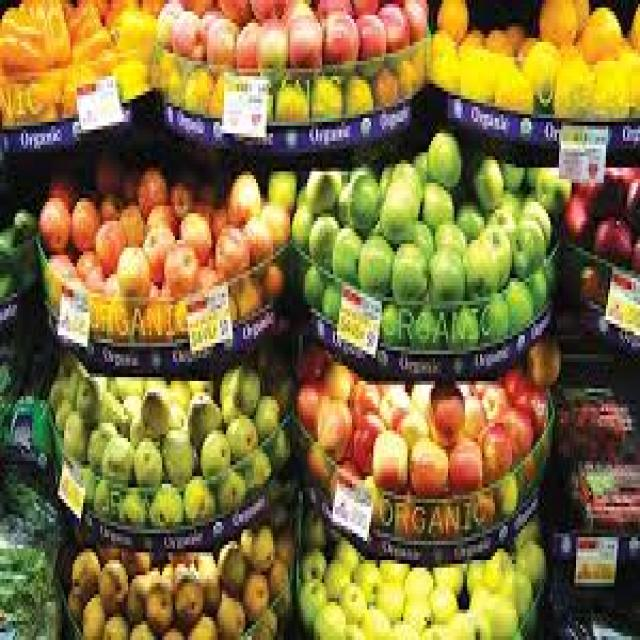organic waste: (0, 0, 66, 72), (557, 388, 627, 454), (0, 545, 58, 621), (576, 0, 619, 65), (582, 480, 638, 526), (424, 377, 461, 446), (107, 0, 158, 50), (424, 244, 463, 308), (286, 4, 320, 76), (320, 8, 358, 72), (390, 240, 427, 305), (377, 175, 414, 240), (313, 396, 350, 461), (211, 221, 250, 282), (407, 434, 448, 492), (113, 244, 149, 308), (61, 0, 104, 53), (426, 122, 461, 187), (202, 8, 235, 76), (372, 422, 406, 488), (538, 0, 584, 46), (465, 148, 501, 206), (186, 388, 220, 449), (224, 168, 260, 225), (254, 12, 286, 76), (348, 412, 382, 472), (0, 224, 32, 286), (520, 34, 554, 92), (463, 236, 497, 294), (170, 0, 202, 61), (196, 423, 228, 484), (525, 320, 557, 381), (499, 404, 531, 465), (448, 431, 480, 492), (158, 423, 192, 480), (354, 8, 384, 72), (493, 53, 531, 103), (591, 213, 629, 263), (143, 224, 173, 286), (380, 152, 420, 198), (428, 27, 458, 88), (70, 541, 100, 602), (94, 217, 126, 274), (162, 240, 196, 293), (478, 591, 518, 636), (346, 172, 378, 228), (141, 576, 173, 632), (512, 530, 544, 586), (502, 572, 534, 628), (303, 164, 339, 213), (350, 556, 392, 598), (552, 50, 591, 95), (134, 164, 167, 217), (563, 186, 591, 248), (36, 194, 68, 248), (510, 213, 542, 267), (356, 232, 388, 286), (147, 476, 184, 522), (81, 419, 115, 469), (177, 206, 209, 259), (458, 42, 492, 91), (68, 190, 98, 244), (173, 568, 200, 628), (376, 0, 408, 50), (518, 198, 550, 248), (243, 213, 271, 270), (484, 217, 510, 278), (136, 389, 168, 438), (444, 297, 478, 343), (420, 179, 454, 225), (376, 381, 410, 427), (222, 412, 256, 457), (478, 545, 512, 590), (591, 57, 627, 99), (307, 209, 335, 263), (297, 576, 324, 632), (130, 434, 160, 484), (102, 266, 126, 328), (111, 373, 166, 400), (480, 419, 508, 472), (307, 72, 339, 118), (134, 282, 164, 331), (214, 587, 244, 636), (403, 564, 433, 613), (233, 15, 260, 69), (216, 537, 243, 591), (239, 526, 273, 568), (521, 381, 546, 438), (309, 598, 346, 636), (98, 556, 124, 610), (260, 198, 288, 248), (467, 480, 495, 530), (303, 434, 333, 480), (431, 214, 467, 252), (73, 373, 100, 423), (102, 431, 132, 476), (320, 358, 352, 400), (616, 42, 638, 103), (267, 556, 290, 614), (409, 301, 444, 339), (231, 362, 258, 411), (393, 484, 420, 533), (273, 80, 307, 118), (534, 172, 568, 210), (117, 198, 145, 244), (181, 472, 209, 518), (117, 480, 145, 526), (612, 164, 636, 217), (241, 568, 265, 621), (369, 61, 399, 103), (478, 294, 508, 336), (266, 168, 296, 210), (239, 446, 269, 488), (337, 575, 367, 617), (504, 274, 529, 324), (297, 377, 322, 427), (169, 377, 209, 408), (252, 389, 277, 438), (356, 598, 388, 636), (371, 594, 403, 632), (231, 271, 258, 316), (62, 408, 89, 453), (196, 560, 220, 610), (256, 252, 284, 294), (301, 255, 326, 301), (488, 190, 518, 228), (9, 202, 36, 244), (476, 377, 503, 419), (429, 488, 456, 530), (463, 389, 486, 438), (218, 465, 243, 510), (301, 343, 326, 388), (43, 171, 79, 202), (102, 392, 128, 434), (49, 374, 68, 431), (429, 564, 465, 594), (497, 354, 525, 392), (156, 0, 179, 46), (58, 358, 81, 404), (363, 476, 386, 522), (491, 472, 514, 518), (154, 54, 179, 96), (331, 228, 356, 270), (267, 362, 292, 404), (348, 377, 378, 412), (297, 541, 324, 579), (299, 503, 326, 541), (435, 0, 465, 34), (264, 423, 286, 468), (322, 556, 348, 594), (181, 65, 205, 106), (395, 53, 416, 99), (124, 572, 145, 617), (81, 591, 102, 636), (290, 202, 312, 244), (166, 548, 212, 568), (397, 408, 424, 442), (405, 213, 431, 248), (120, 541, 150, 571), (344, 72, 369, 107), (331, 533, 356, 568), (92, 148, 115, 186), (273, 518, 292, 564), (463, 552, 486, 590), (169, 176, 192, 213), (457, 202, 482, 236), (335, 179, 352, 225), (254, 602, 277, 636), (499, 160, 525, 190), (186, 610, 216, 636), (102, 606, 128, 636), (405, 381, 431, 411), (512, 514, 540, 541), (623, 171, 638, 221), (47, 244, 72, 274), (73, 244, 98, 274), (378, 556, 405, 583), (482, 23, 510, 49), (523, 263, 542, 301), (403, 0, 424, 34), (205, 68, 222, 110), (591, 164, 608, 206), (320, 270, 337, 312), (390, 614, 422, 636), (218, 0, 248, 23), (444, 606, 467, 636), (429, 587, 452, 617), (540, 244, 554, 293), (90, 472, 108, 510), (309, 0, 354, 15), (220, 388, 237, 426), (245, 0, 286, 15), (522, 164, 554, 183), (467, 587, 480, 632), (209, 206, 226, 240), (418, 614, 444, 636), (627, 0, 638, 50), (504, 19, 520, 53), (192, 194, 209, 225), (167, 400, 186, 427), (215, 366, 232, 392), (457, 23, 480, 42), (128, 617, 151, 636), (412, 149, 426, 179), (629, 229, 638, 274), (120, 168, 134, 194), (66, 587, 79, 613), (94, 541, 117, 552), (346, 617, 358, 636), (350, 0, 367, 11), (297, 187, 305, 202)
